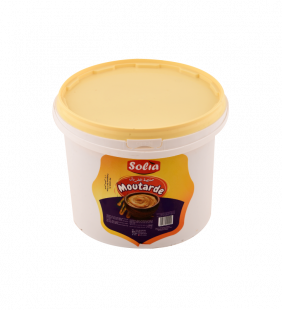SOLIA: (52, 58, 230, 249)
